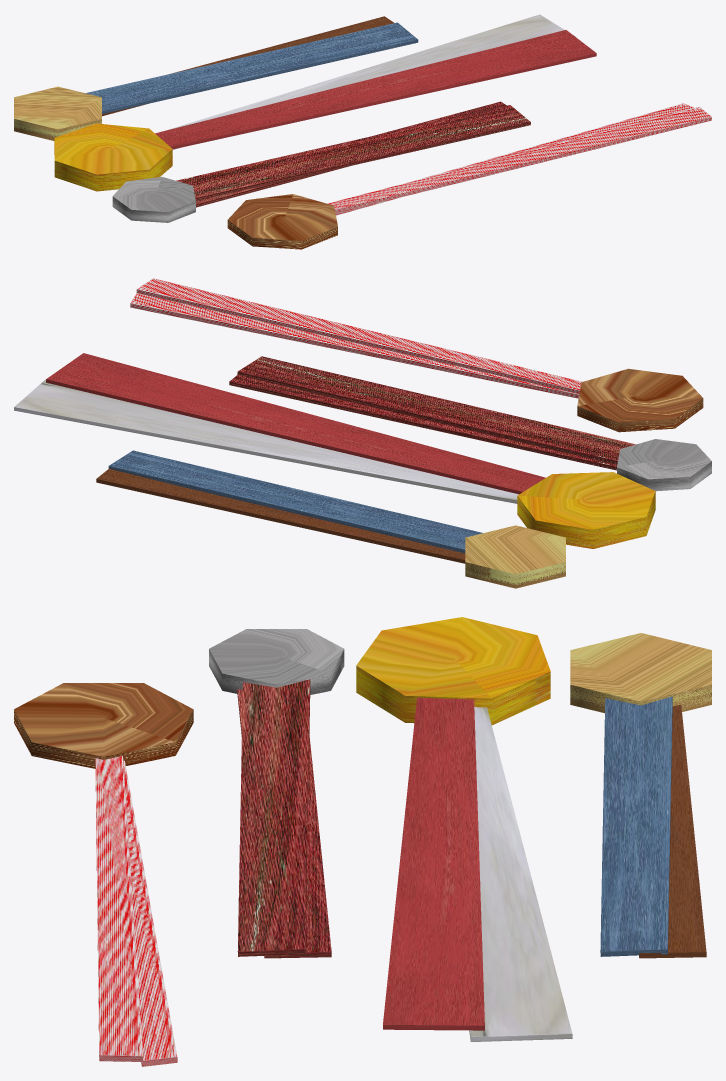
Rendered from medals.FBX.
The picture shows the model from 3 angles, top to bottom: view 1: azimuth 30°, elevation 25°; view 2: azimuth 150°, elevation 25°; view 3: azimuth 270°, elevation 25°; orthographic projection. The views are drawn at different scales.
Visible parts, largest first — view 1: Box004, Box005, Box002, Cylinder002, Box008, Cylinder004, Box003, Cylinder001, Cylinder003, Box007, Box001, Box006; view 2: Box004, Box003, Box005, Box002, Cylinder002, Box008, Cylinder004, Cylinder001, Box001, Box007, Cylinder003, Box006; view 3: Box004, Box005, Box002, Box003, Cylinder002, Cylinder004, Box008, Cylinder001, Cylinder003, Box001, Box007, Box006.
Boxes of the visible parts, box(x1,y1,x2,y2) form: Box004: box(155, 30, 596, 149); Box005: box(176, 105, 530, 200); Box002: box(85, 22, 418, 114); Cylinder002: box(54, 123, 172, 191); Box008: box(327, 106, 711, 213); Cylinder004: box(227, 194, 337, 249); Box003: box(167, 14, 575, 149); Cylinder001: box(14, 86, 101, 140); Cylinder003: box(112, 177, 195, 222); Box007: box(335, 103, 694, 215); Box001: box(102, 16, 393, 116); Box006: box(196, 101, 506, 207); Box004: box(46, 353, 545, 494); Box003: box(14, 379, 518, 503); Box005: box(237, 356, 635, 464); Box002: box(108, 450, 483, 553); Cylinder002: box(517, 472, 655, 548); Box008: box(136, 278, 582, 393); Cylinder004: box(577, 368, 703, 432); Cylinder001: box(465, 525, 565, 588); Box001: box(96, 468, 465, 563); Box007: box(130, 293, 579, 398); Cylinder003: box(617, 439, 711, 491); Box006: box(229, 374, 617, 470); Box004: box(383, 697, 484, 1030); Box005: box(237, 679, 310, 956); Box002: box(600, 696, 672, 956); Box003: box(469, 707, 572, 1041); Cylinder002: box(356, 617, 550, 725); Cylinder004: box(14, 683, 193, 768); Box008: box(95, 756, 142, 1061); Cylinder001: box(570, 633, 711, 713); Cylinder003: box(209, 629, 344, 694); Box001: box(639, 704, 706, 958); Box007: box(123, 760, 177, 1066); Box006: box(237, 689, 331, 958).
Size of the model in its own units: 104 by 3.06 by 71.5.
Materials: 10 (10 with a texture image).
